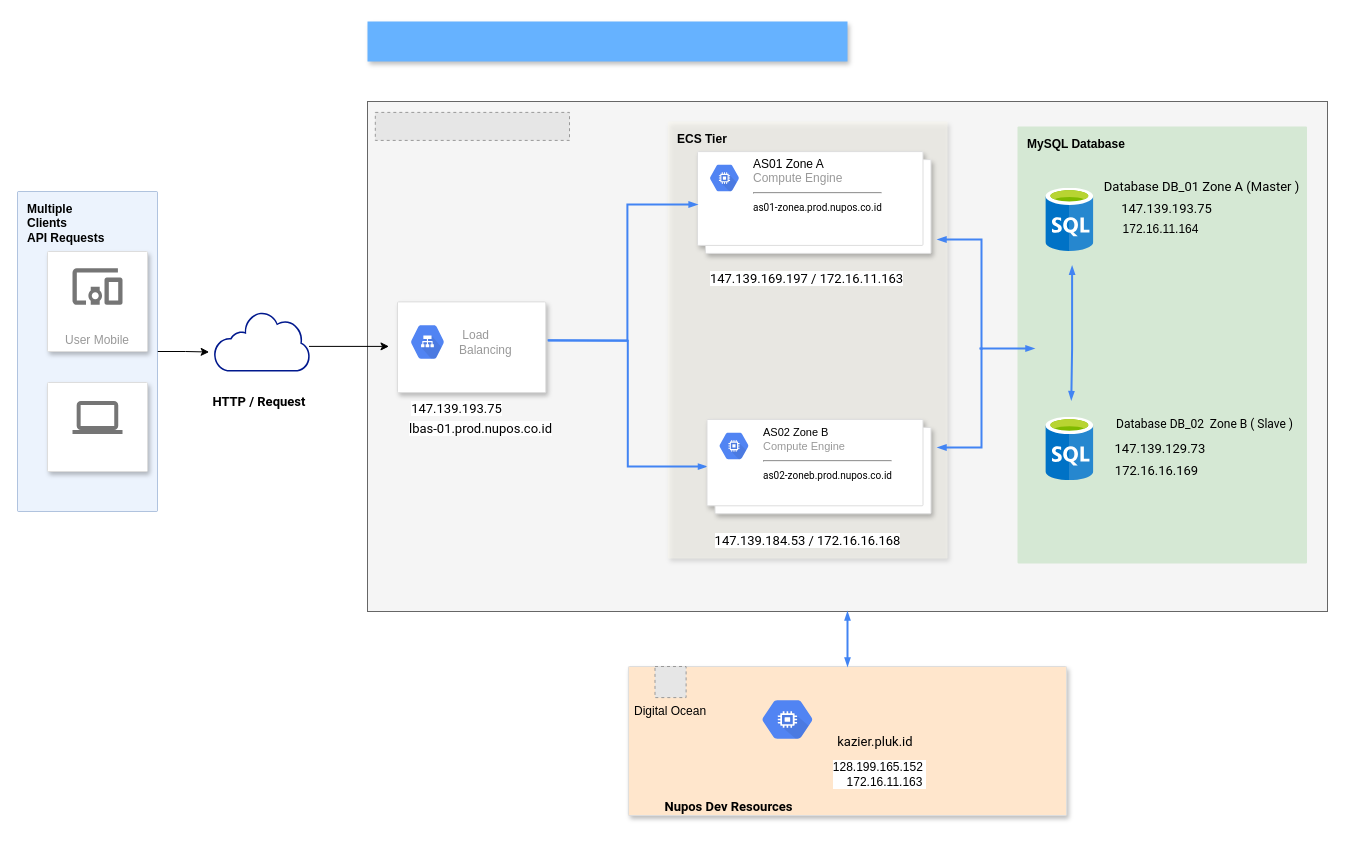
Image size: 1345x841. Some labels were removed from this diagram. Grey dashed boxes stand in for pictures. The centre of each missing label's shape, as x and y in pixels:
Architecture: Apps Webservice NuPOS --> Schema Cluster: pixel 608 42
Internet: pixel 261 341
NuposDEV Compute Engine: pixel 787 719
